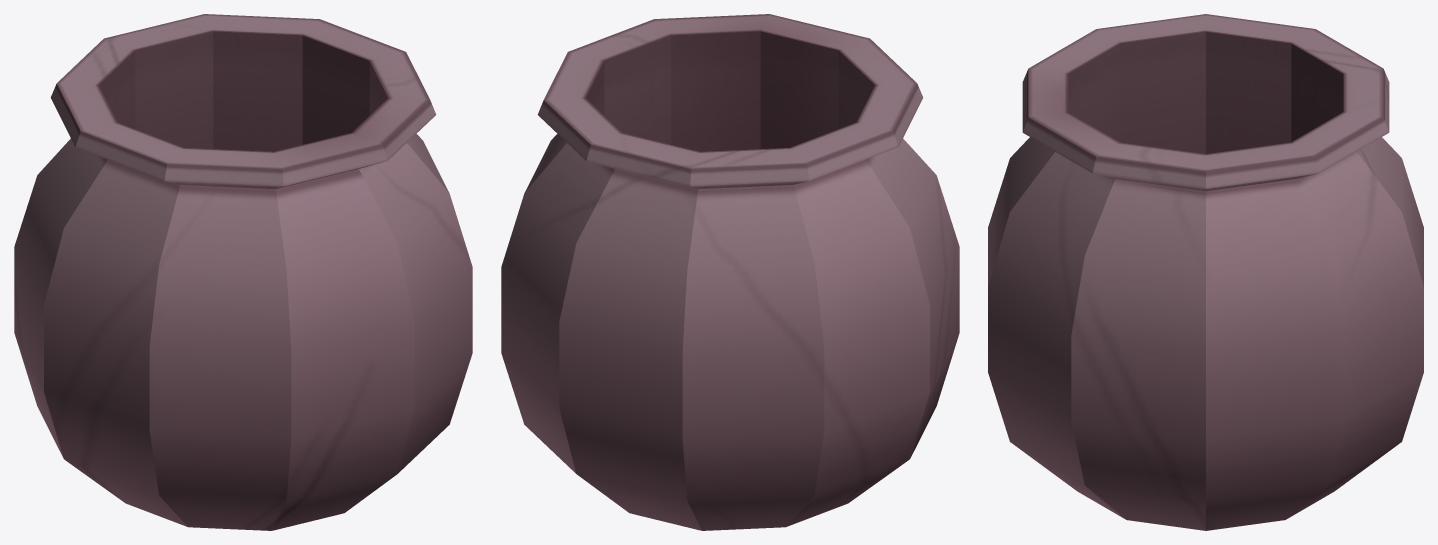
The model's file is pot.FBX.
3 renders of one model, left to right at view 1: azimuth 30°, elevation 25°; view 2: azimuth 150°, elevation 25°; view 3: azimuth 270°, elevation 25°, orthographic.
Parts seen in each view (by area): view 1: Cylinder001; view 2: Cylinder001; view 3: Cylinder001.
Boxes of the visible parts, bbox=[...] form: Cylinder001: bbox=[14, 14, 472, 530]; Cylinder001: bbox=[501, 14, 959, 530]; Cylinder001: bbox=[988, 14, 1423, 530].
Size of the model in its own units: 0.8601 by 0.7888 by 0.818.
